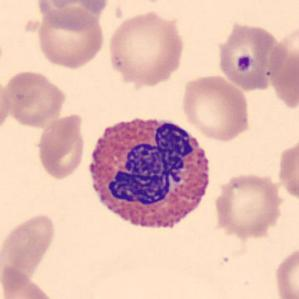Eosinophil: (81, 107, 218, 242)
RBC: (105, 9, 187, 87), (213, 19, 285, 92), (178, 72, 252, 142), (211, 170, 284, 239), (35, 5, 106, 70), (0, 210, 57, 284), (2, 68, 68, 128), (35, 110, 88, 182), (267, 24, 299, 110), (37, 0, 110, 29), (0, 266, 59, 299), (274, 140, 299, 202), (272, 244, 299, 299), (0, 74, 12, 138)
